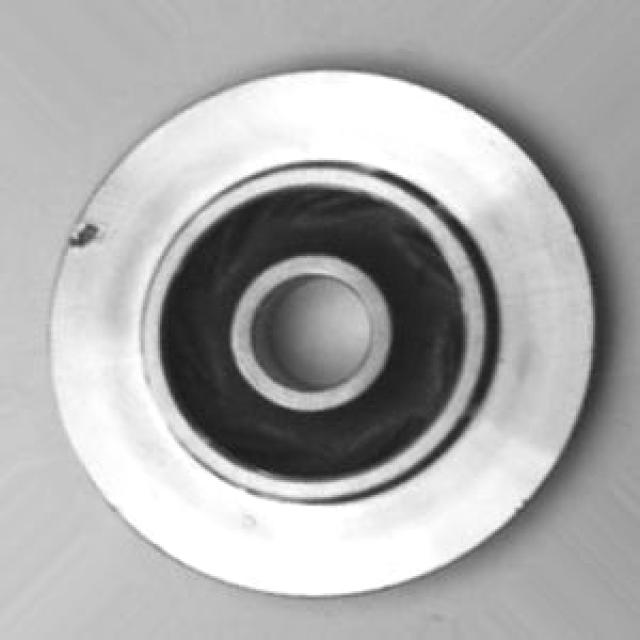Defect: (68, 220, 108, 252)
